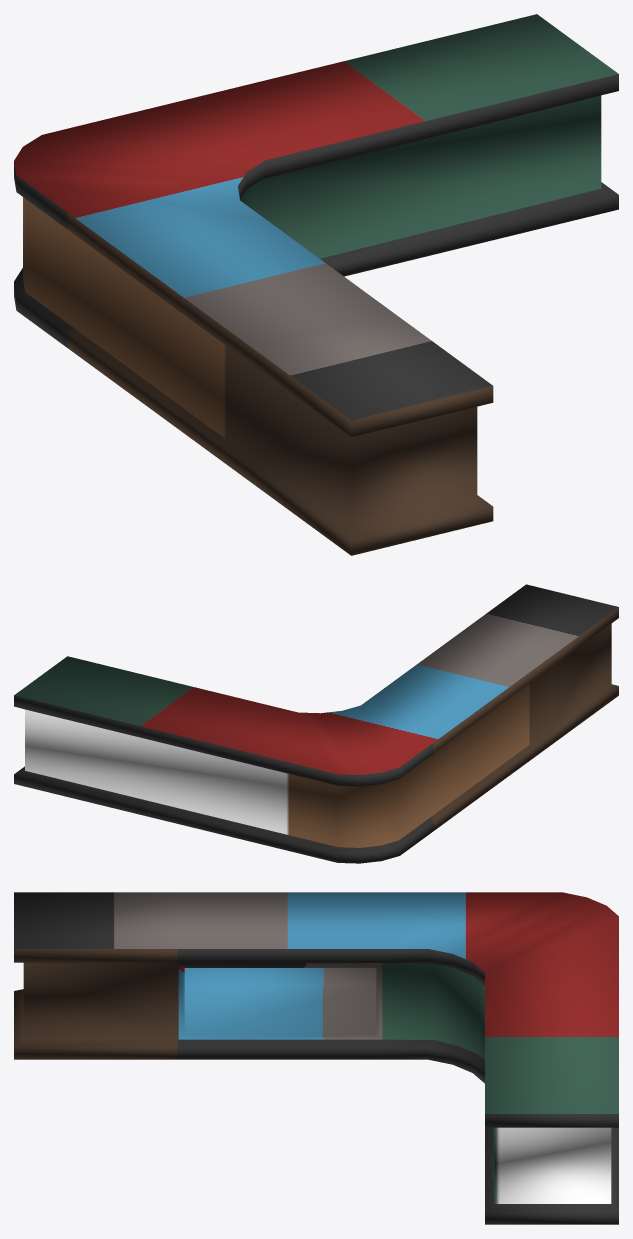
Rendered from Bar.fbx.
3 renders of one model, top to bottom at view 1: azimuth 30°, elevation 25°; view 2: azimuth 150°, elevation 25°; view 3: azimuth 270°, elevation 25°, orthographic. The views are drawn at different scales.
Visible parts, largest first — view 1: Bar; view 2: Bar; view 3: Bar.
Part boxes in pixels (left/top/right/bottom): Bar: left=14, top=14, right=618, bottom=555; Bar: left=14, top=584, right=618, bottom=863; Bar: left=14, top=892, right=618, bottom=1224.
Bounding box in the file's own units: 207 × 48.14 × 238.
1 material, 1 textured.
